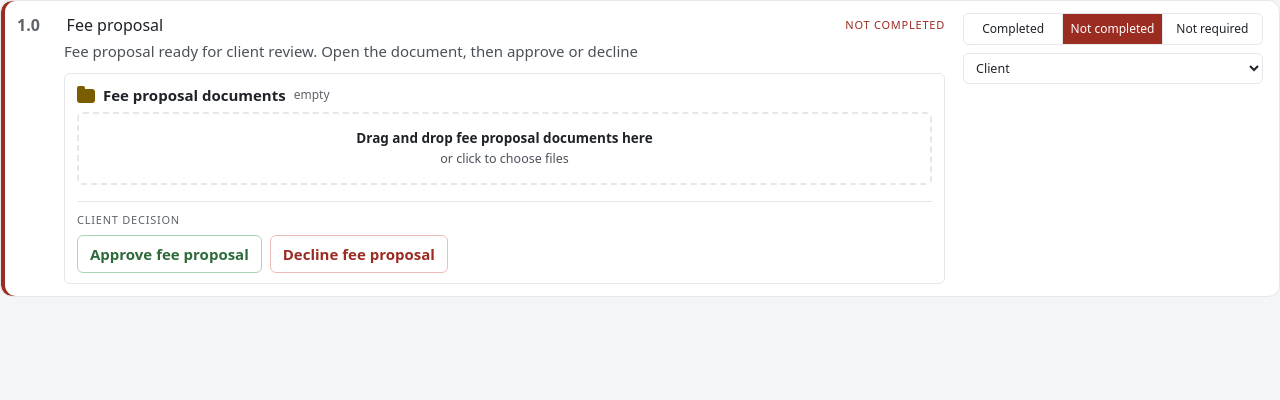
approval panel: recording a decision › approves, shows the result box with the date and leaves the status as it was
Click the button "Approve fee proposal": (169, 254) x1=77 y1=234 x2=262 y2=273
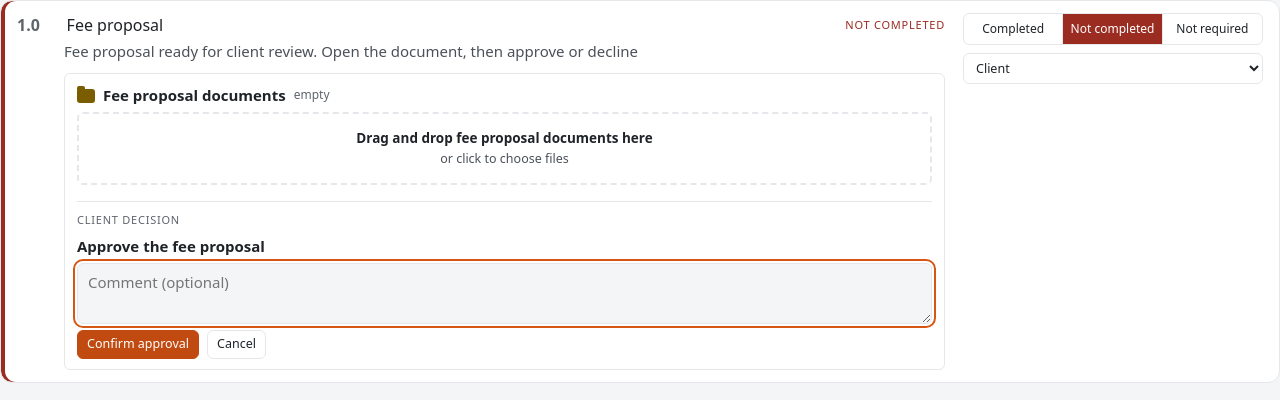
In the text box: (504, 294) x1=77 y1=263 x2=932 y2=324, type "  Looks fine  "
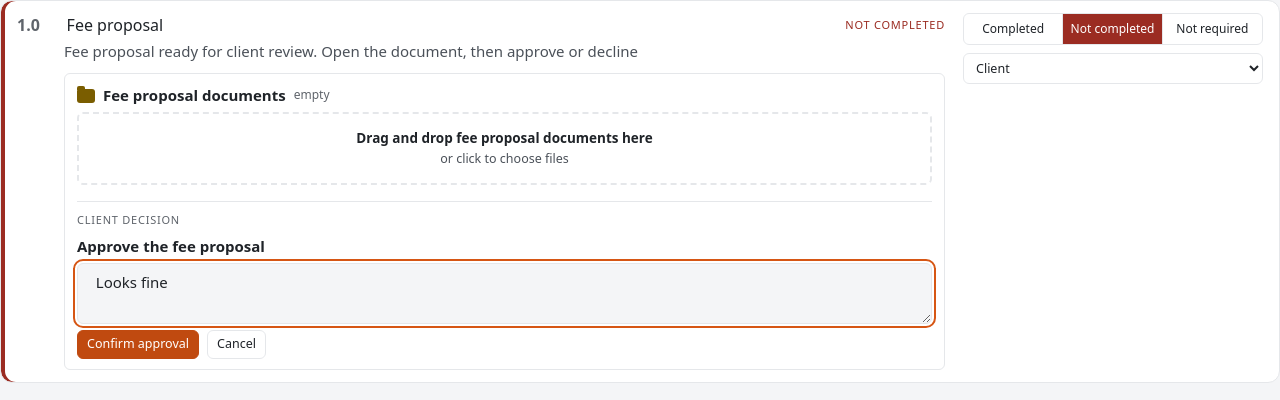
Click the button "Confirm approval": (138, 344) x1=77 y1=330 x2=199 y2=359
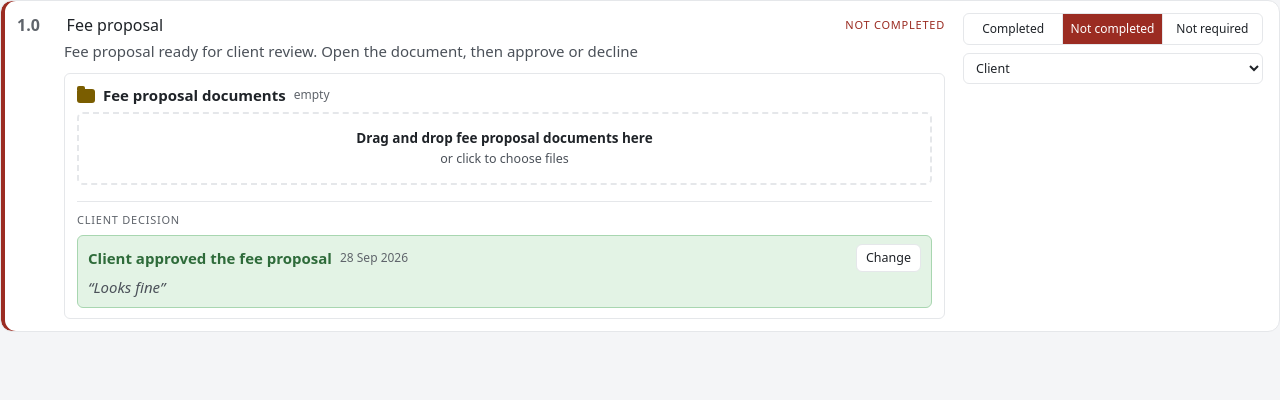
Expected: the text "Client approved the fee proposal" is shown, x1=88 y1=247 x2=332 y2=269
Expected: the text "28 Sep 2026" is shown, x1=340 y1=249 x2=408 y2=267
Expected: the text "“Looks fine”" is shown, x1=88 y1=277 x2=165 y2=297
